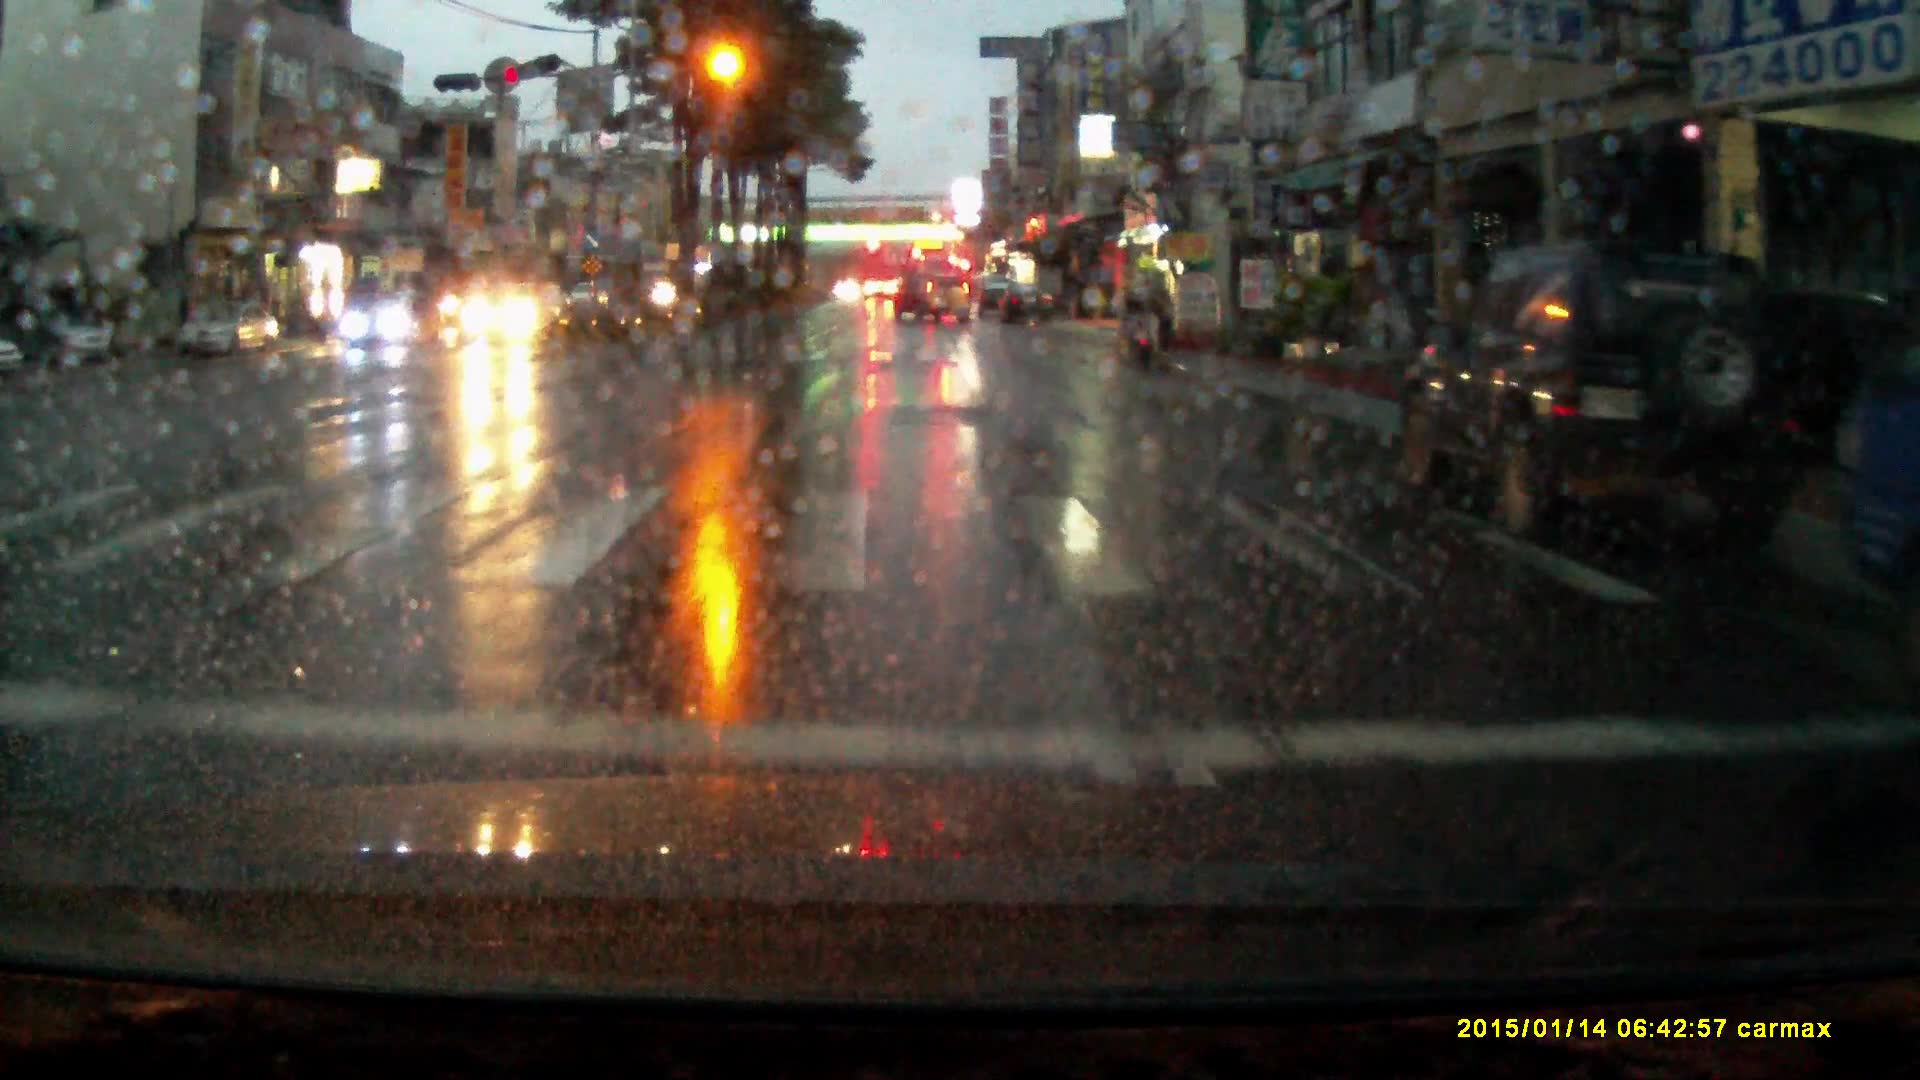vehicle: (1400, 241, 1817, 525), (464, 277, 566, 344), (178, 295, 284, 359), (345, 290, 444, 352), (36, 305, 111, 368), (893, 270, 972, 323), (905, 247, 949, 309), (996, 282, 1055, 324), (977, 273, 1009, 316), (570, 281, 611, 313), (862, 276, 899, 302)
